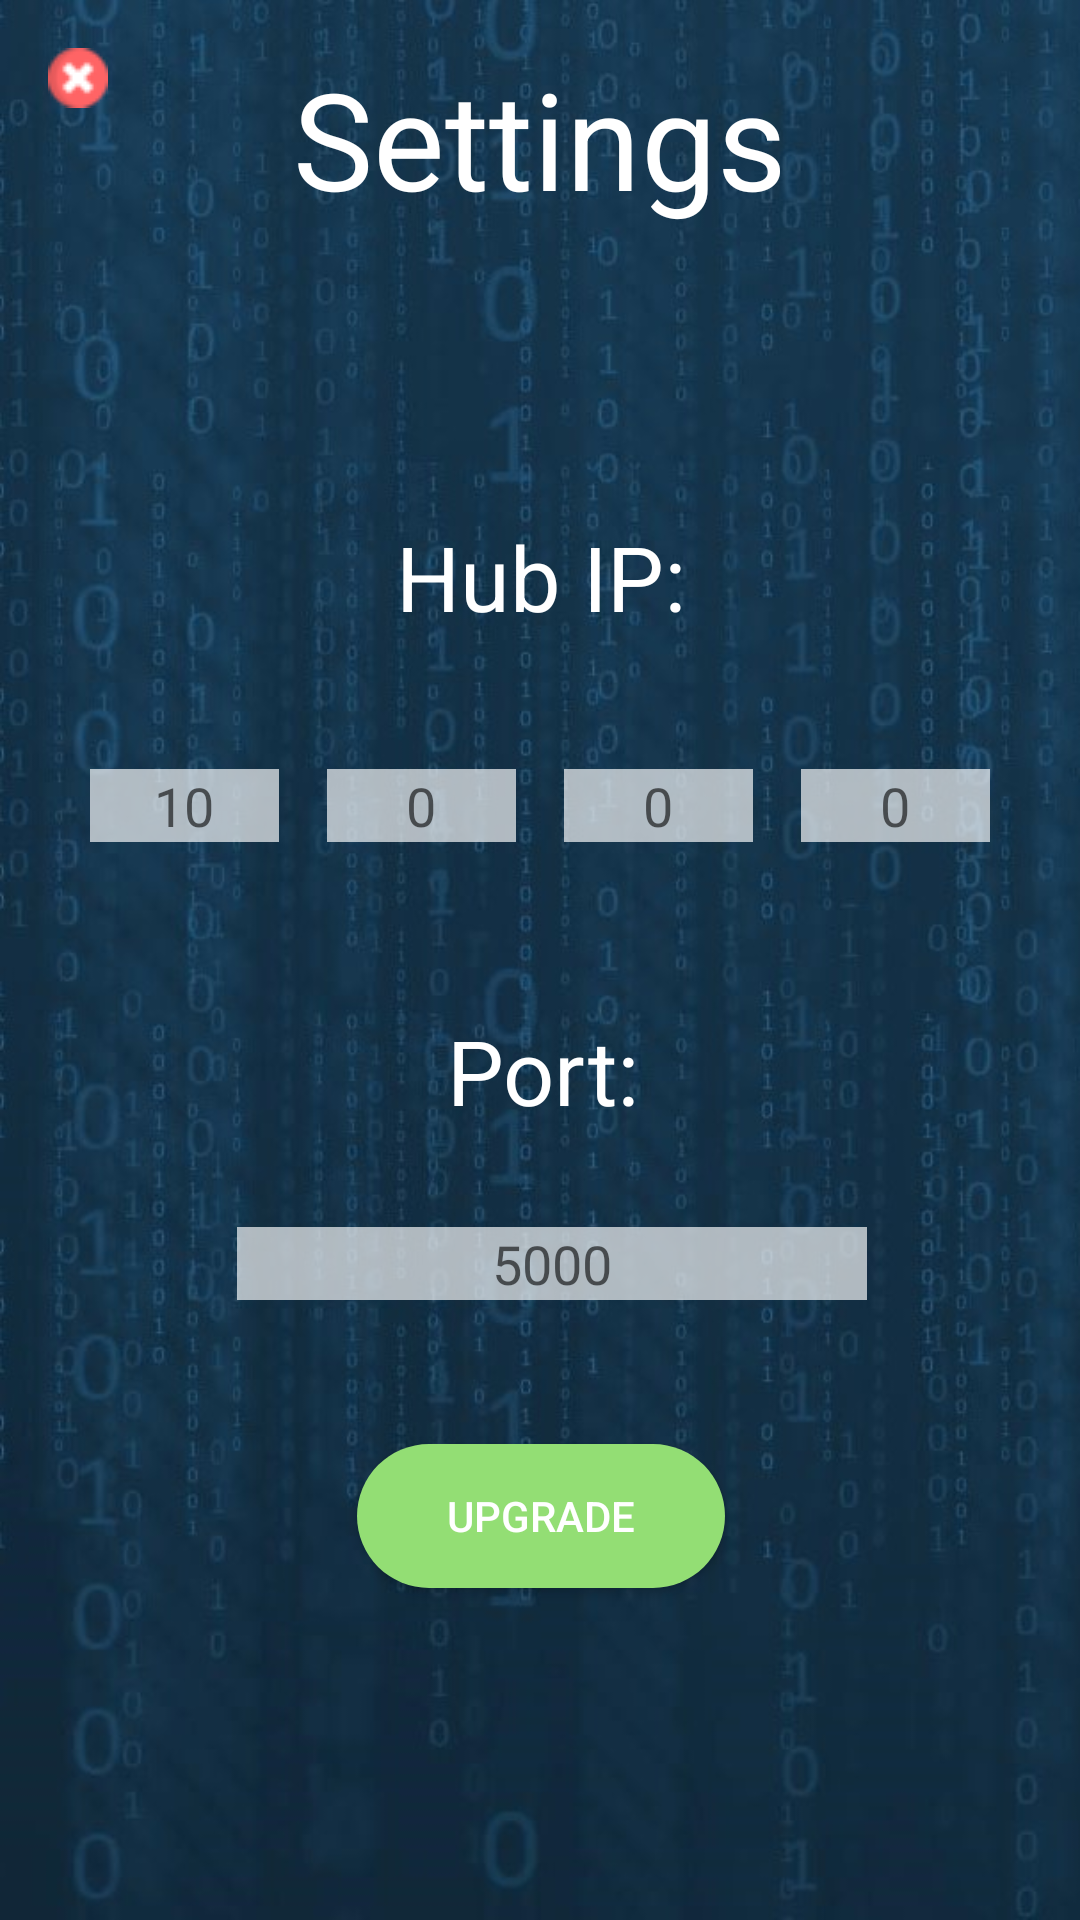

Icon bounding boxes for this 1080w x 1920h phone screenshot, format (x1=x1, y1=y1, x2=x2, y2=y2):
cross: (x1=48, y1=48, x2=108, y2=108)
